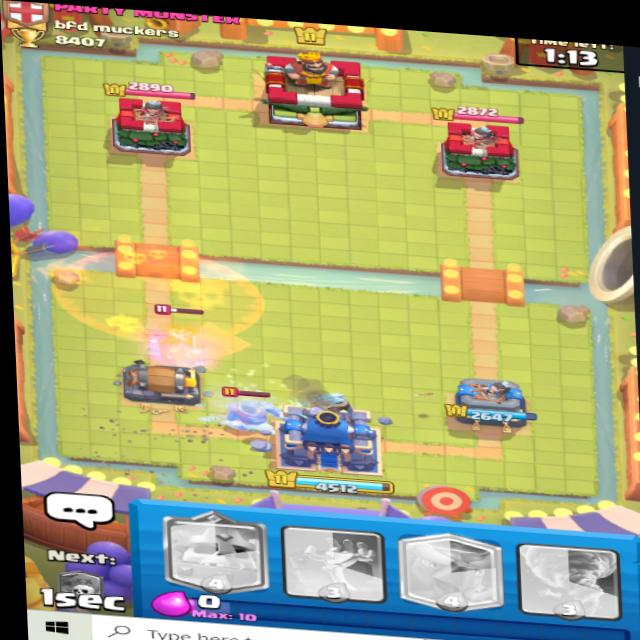archer-queen: (146, 303, 253, 374)
archer-queen-ability: (149, 308, 226, 367)
knight: (213, 384, 291, 437)
